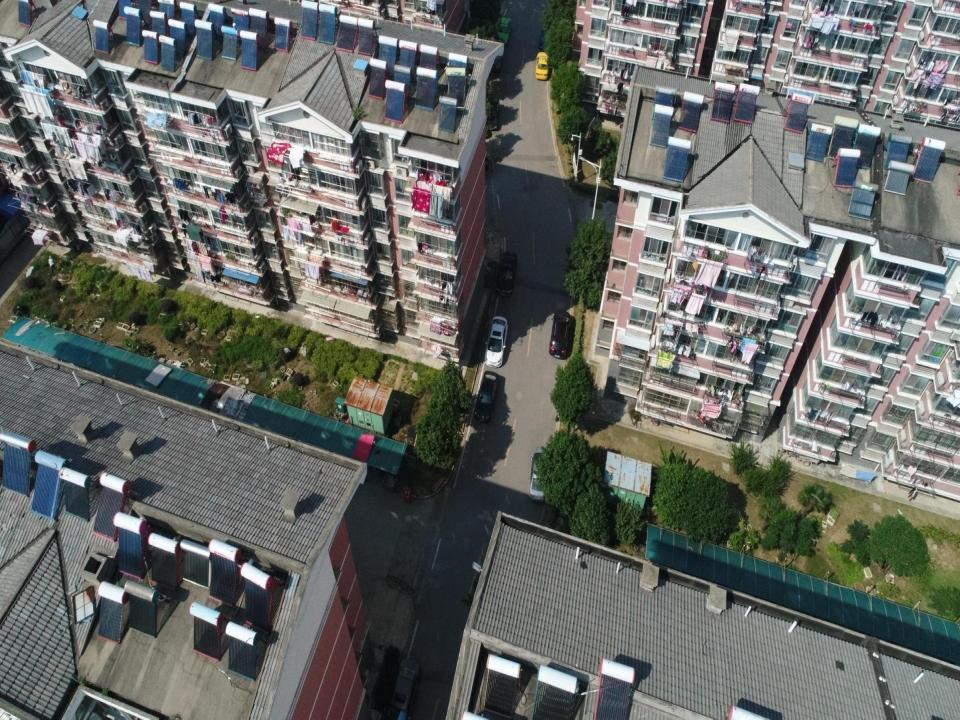car: (385, 659, 420, 720), (474, 371, 499, 422), (484, 315, 508, 368), (549, 310, 572, 359), (528, 446, 548, 502), (494, 251, 518, 297), (496, 17, 512, 43), (487, 98, 499, 131), (536, 52, 549, 80), (539, 25, 552, 50), (490, 46, 502, 72)
